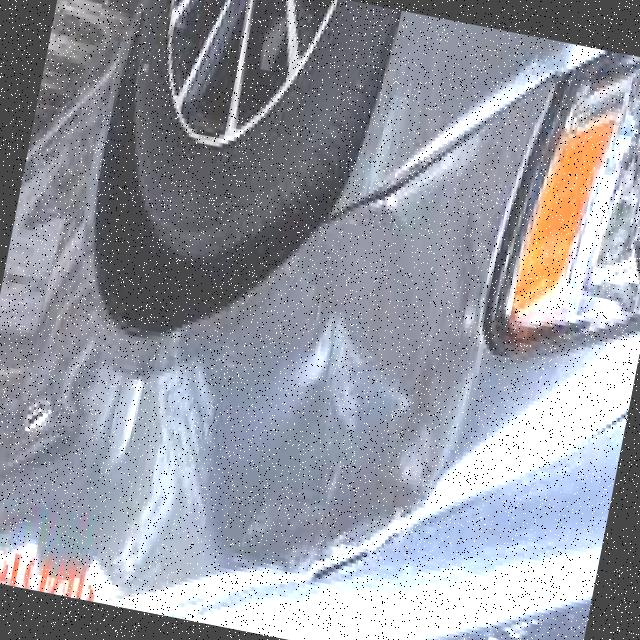Dent: (186, 167, 507, 640), (0, 309, 248, 622)
Head Light: (490, 38, 640, 364)
